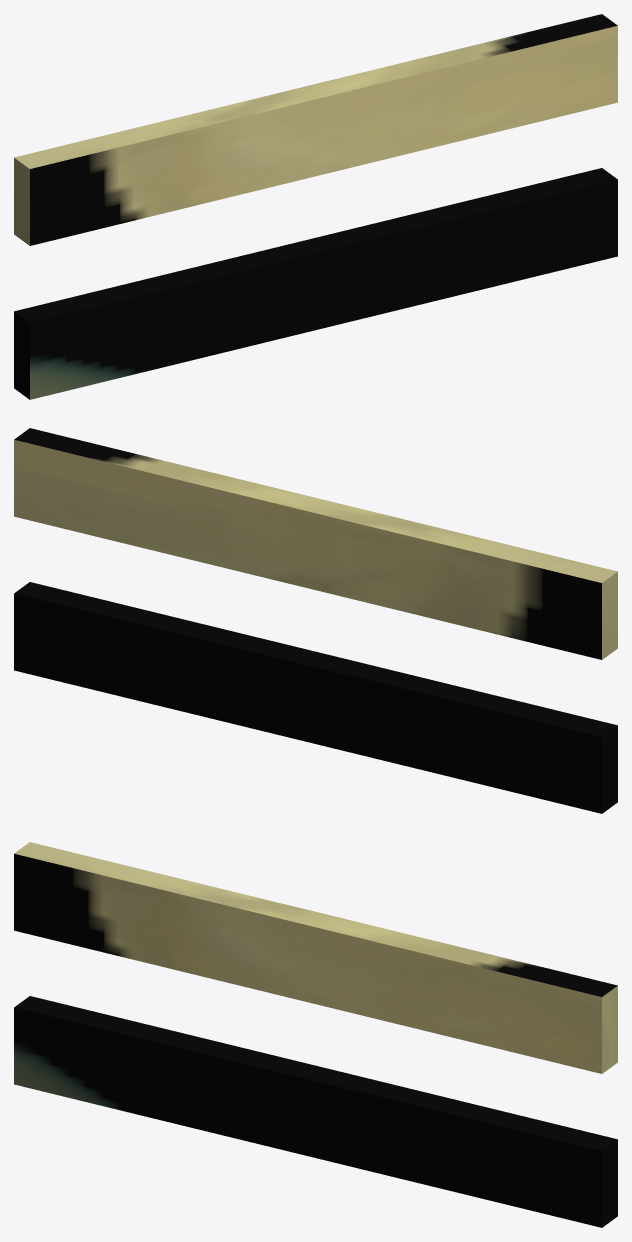
File: Path_Fence_Straight_1x1.fbx
3 renders of one model, top to bottom at view 1: azimuth 30°, elevation 25°; view 2: azimuth 150°, elevation 25°; view 3: azimuth 330°, elevation 25°, orthographic.
Visible parts, largest first — view 1: Path_Fence_Straight_1x1; view 2: Path_Fence_Straight_1x1; view 3: Path_Fence_Straight_1x1.
Boxes of the visible parts, x1=… form: Path_Fence_Straight_1x1: x1=14, y1=14, x2=617, y2=399; Path_Fence_Straight_1x1: x1=14, y1=428, x2=617, y2=813; Path_Fence_Straight_1x1: x1=14, y1=842, x2=617, y2=1227.
Bounding box in the file's own units: 100 × 37.5 × 4.69.
